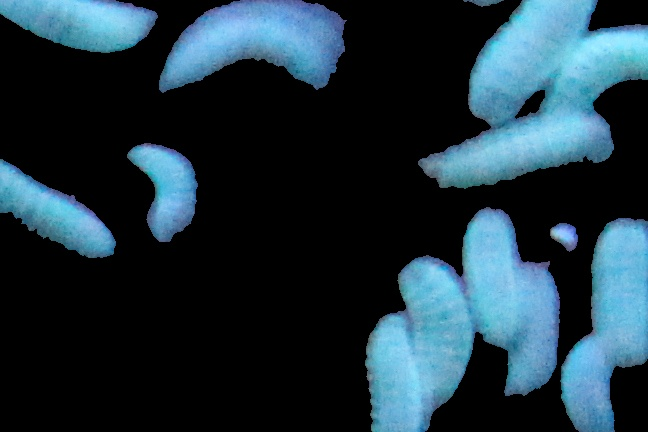larvae: (167, 5, 343, 104), (466, 1, 609, 121), (420, 123, 614, 198), (1, 156, 114, 270), (399, 257, 474, 410), (588, 213, 648, 376), (546, 25, 648, 113), (357, 312, 429, 432), (128, 140, 200, 254), (464, 203, 520, 345), (1, 1, 150, 52), (503, 255, 556, 396), (561, 335, 620, 432)
